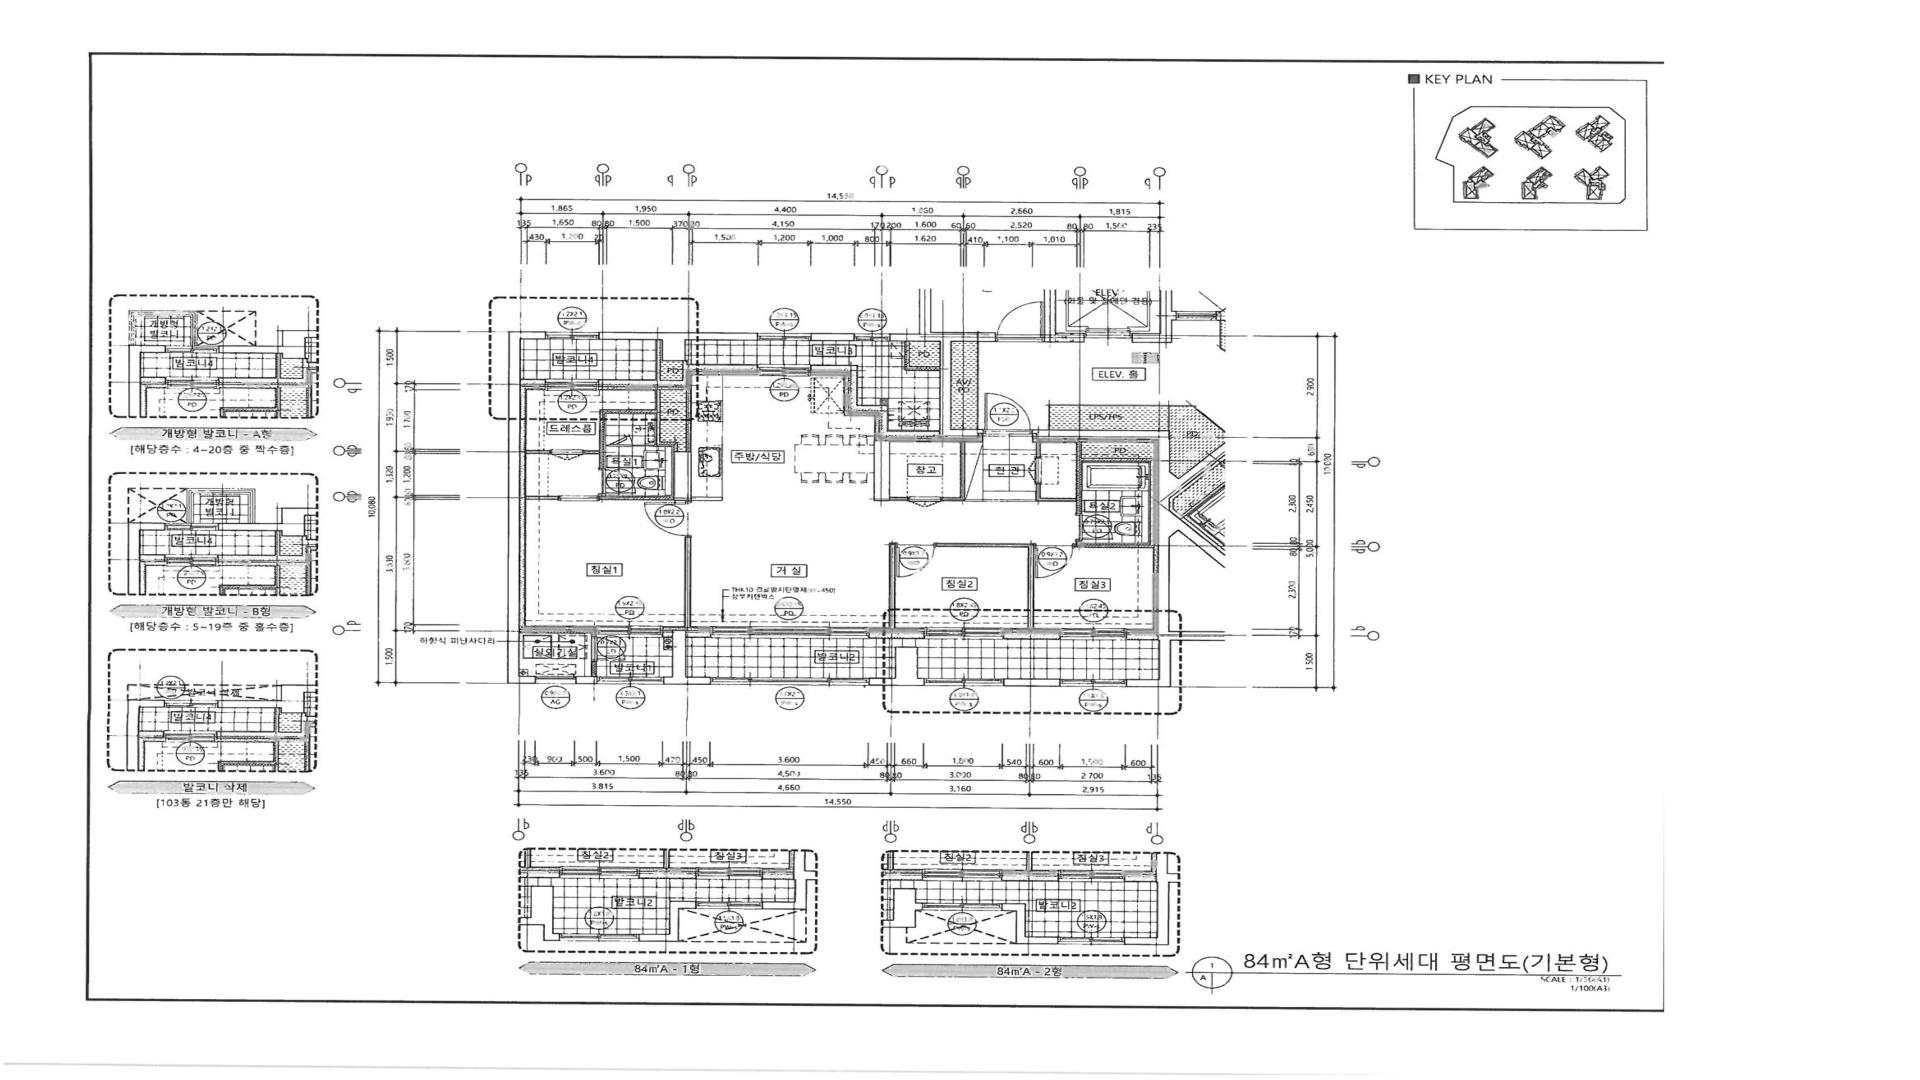door: (983, 393, 1032, 436), (996, 301, 1044, 342), (644, 501, 692, 536), (1034, 543, 1076, 578), (895, 542, 936, 577), (598, 468, 636, 496), (1075, 514, 1113, 541), (591, 637, 626, 661), (908, 496, 941, 507), (606, 435, 633, 447), (558, 495, 599, 501)
wall: (1032, 429, 1226, 687), (584, 390, 723, 500), (508, 331, 546, 683), (1036, 442, 1155, 548), (890, 332, 996, 438), (810, 365, 939, 438), (936, 543, 1034, 628), (599, 340, 758, 387), (1048, 404, 1225, 433), (599, 332, 757, 361), (663, 630, 710, 684), (1132, 290, 1176, 343), (1044, 289, 1084, 342), (873, 441, 908, 501), (869, 647, 924, 685), (941, 441, 965, 501), (905, 341, 940, 371), (684, 537, 691, 627), (520, 630, 597, 637), (889, 542, 895, 629), (1003, 678, 1060, 686), (1003, 631, 1060, 639), (869, 631, 925, 639), (811, 333, 854, 341), (686, 630, 711, 637), (521, 379, 545, 386), (576, 676, 597, 684), (526, 496, 558, 500), (526, 450, 551, 454), (977, 342, 978, 429), (1036, 441, 1041, 458), (591, 662, 596, 676), (663, 630, 672, 637), (634, 445, 657, 446)
window: (711, 626, 869, 639), (711, 677, 869, 685), (925, 627, 1003, 639), (1060, 628, 1125, 640), (597, 626, 662, 638), (545, 379, 598, 391), (924, 678, 1003, 686), (758, 364, 810, 376), (1060, 679, 1127, 687), (597, 676, 663, 684), (546, 331, 599, 340), (757, 333, 811, 341), (1176, 311, 1217, 320), (536, 676, 576, 684), (855, 333, 890, 341)
